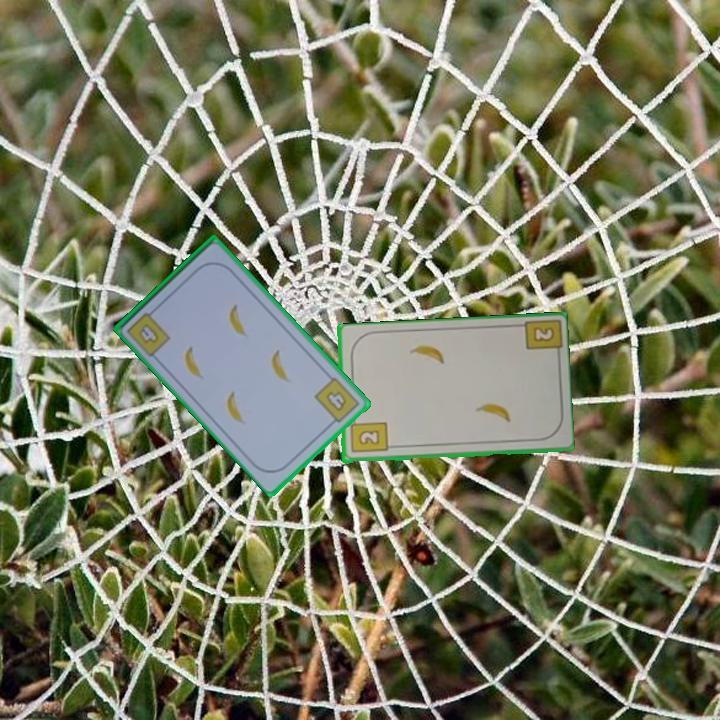2b: (346, 414, 390, 456), (529, 323, 557, 345)
4b: (311, 374, 362, 429), (123, 304, 173, 360)
